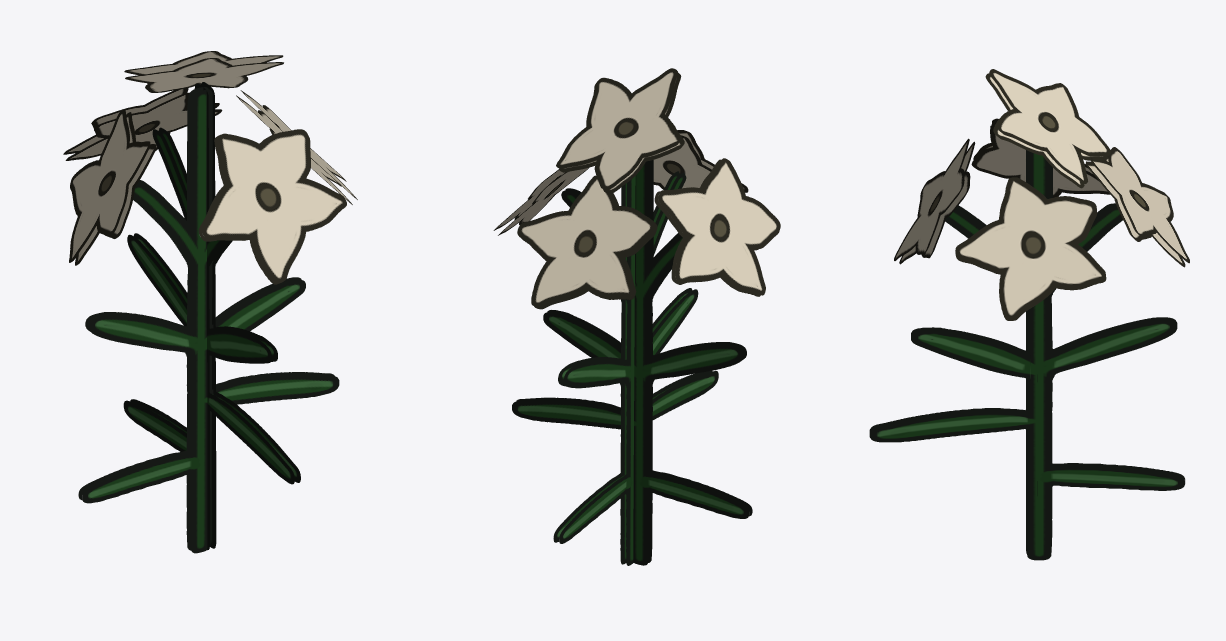
Rendered from flower_small.fbx.
3 views of the same model, side by side, from view 1: azimuth 30°, elevation 25°; view 2: azimuth 150°, elevation 25°; view 3: azimuth 270°, elevation 25° (orthographic). The views are drawn at different scales.
Parts seen in each view (by area): view 1: flower1; view 2: flower1; view 3: flower1.
Part boxes in pixels (x1=…): flower1: x1=63, y1=51, x2=357, y2=553; flower1: x1=493, y1=68, x2=780, y2=565; flower1: x1=869, y1=69, x2=1189, y2=560.
Bounding box in the file's own units: 52.08 × 84.44 × 55.78.
